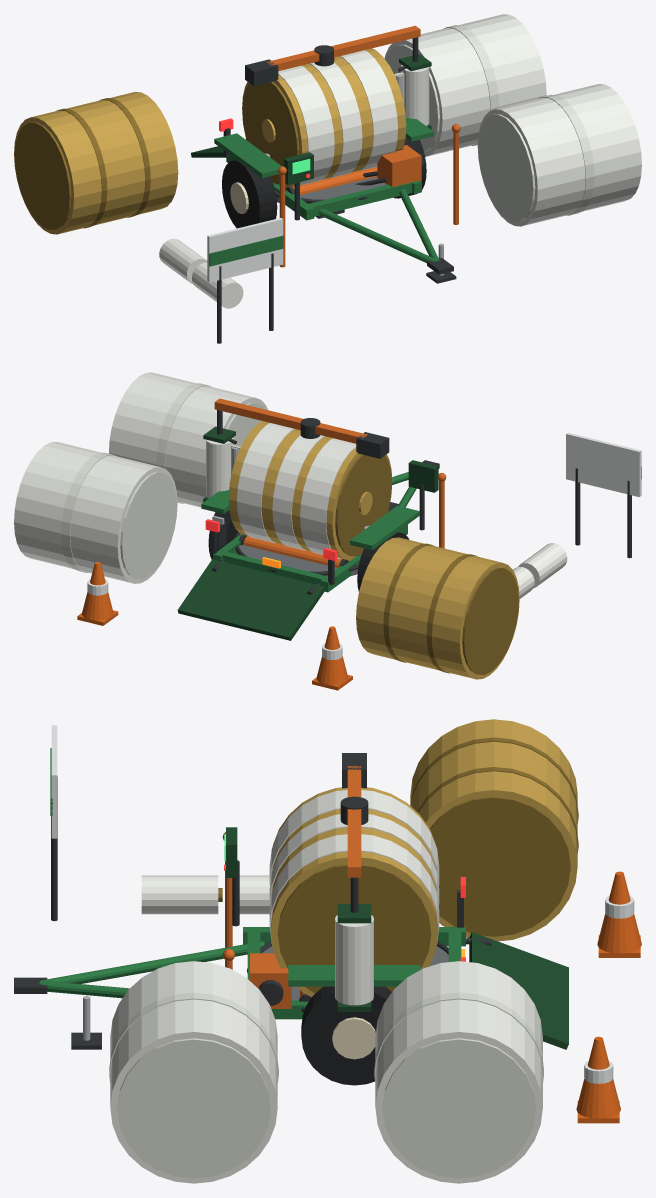
The model's file is bale_wrapper.glb.
3 renders of one model, top to bottom at view 1: azimuth 30°, elevation 25°; view 2: azimuth 150°, elevation 25°; view 3: azimuth 270°, elevation 25°, orthographic. The views are drawn at different scales.
Parts seen in each view (by area): view 1: FieldProps, BaleSpin, WrapperFrame, WrapArm, Turntable; view 2: FieldProps, BaleSpin, WrapperFrame, WrapArm, Turntable; view 3: FieldProps, BaleSpin, WrapperFrame, WrapArm, Turntable.
Part boxes in pixels (x1,y1,x2,y2): FieldProps: [14, 14, 641, 343]; BaleSpin: [242, 48, 406, 188]; WrapperFrame: [191, 117, 460, 283]; WrapArm: [245, 25, 431, 129]; Turntable: [265, 153, 386, 203]; FieldProps: [14, 372, 641, 690]; BaleSpin: [228, 421, 392, 560]; WrapperFrame: [177, 460, 446, 640]; WrapArm: [203, 398, 389, 502]; Turntable: [234, 525, 369, 576]; FieldProps: [50, 719, 641, 1183]; BaleSpin: [269, 787, 439, 997]; WrapperFrame: [14, 827, 568, 1085]; WrapArm: [335, 753, 373, 1011]; Turntable: [247, 941, 448, 1011].
Size of the model in its own units: 5.35 by 1.79 by 4.5.
